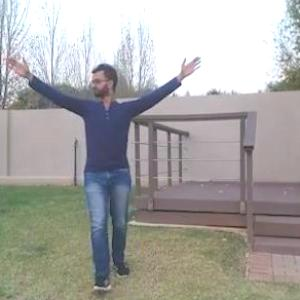takeoff: (2, 50, 206, 290)
